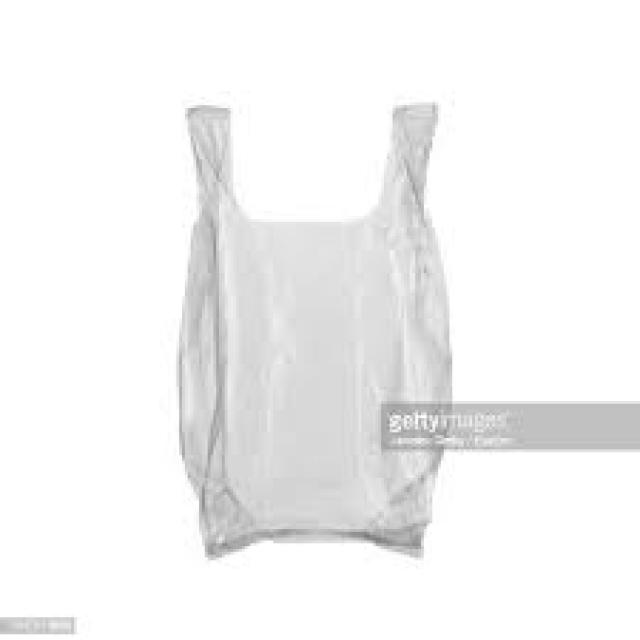plastic: (180, 106, 449, 557)
